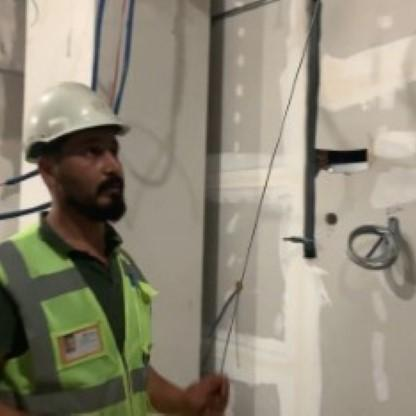helmet: (5, 81, 162, 256)
